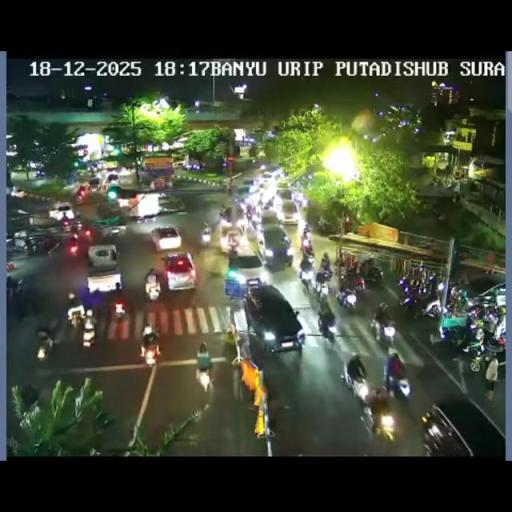Car: (423, 396, 500, 454), (242, 283, 304, 353), (227, 248, 268, 291), (86, 246, 122, 294), (258, 221, 291, 266), (162, 251, 197, 292), (120, 192, 161, 219), (219, 222, 246, 253), (150, 226, 182, 251), (156, 193, 186, 214), (95, 198, 123, 220), (278, 198, 300, 224), (49, 202, 74, 222), (241, 176, 257, 194), (103, 172, 119, 188), (260, 172, 275, 187), (86, 177, 100, 191)
Motorcycle: (460, 324, 504, 374), (428, 322, 466, 360), (342, 363, 371, 406), (370, 404, 396, 442), (383, 367, 411, 402), (370, 312, 397, 346), (399, 286, 427, 318), (264, 385, 284, 425), (194, 350, 213, 390), (317, 297, 335, 338), (335, 280, 360, 309), (446, 286, 470, 316), (230, 361, 246, 402), (18, 382, 40, 410), (139, 338, 160, 366), (340, 258, 362, 284), (35, 330, 53, 360), (36, 234, 62, 254), (14, 285, 28, 318), (492, 309, 506, 341), (81, 319, 96, 348), (298, 261, 314, 288), (145, 276, 161, 302), (222, 336, 236, 364), (246, 204, 260, 230), (466, 304, 484, 324), (318, 251, 332, 276), (317, 216, 336, 234), (366, 266, 383, 286), (316, 275, 330, 299), (426, 274, 438, 298), (69, 309, 84, 328), (302, 242, 314, 260), (114, 302, 126, 320), (398, 274, 410, 292), (262, 195, 276, 210), (200, 224, 210, 245), (68, 238, 79, 256), (82, 228, 94, 242), (238, 201, 248, 217), (70, 220, 81, 234), (24, 241, 34, 256), (106, 228, 121, 238), (67, 291, 76, 307), (282, 234, 292, 248), (75, 192, 84, 204), (302, 223, 310, 236), (222, 182, 231, 192), (438, 282, 444, 291)
